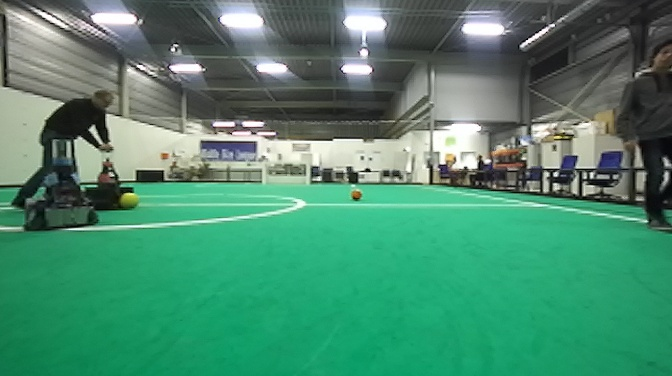ball: (118, 191, 141, 212), (348, 186, 364, 204)
goal: (261, 156, 309, 186)
goalpost: (304, 159, 310, 185), (261, 157, 266, 186)
human: (8, 85, 117, 212), (610, 36, 672, 238)
robot: (20, 133, 100, 234), (85, 145, 142, 213)
